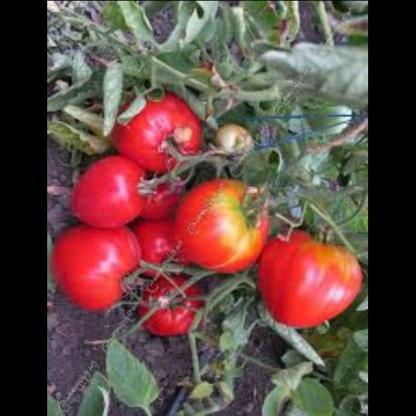tomato: (258, 224, 362, 336), (172, 171, 271, 272), (105, 79, 203, 176), (66, 153, 154, 233), (59, 228, 141, 311), (146, 268, 206, 341), (131, 223, 191, 280), (137, 168, 193, 225)
